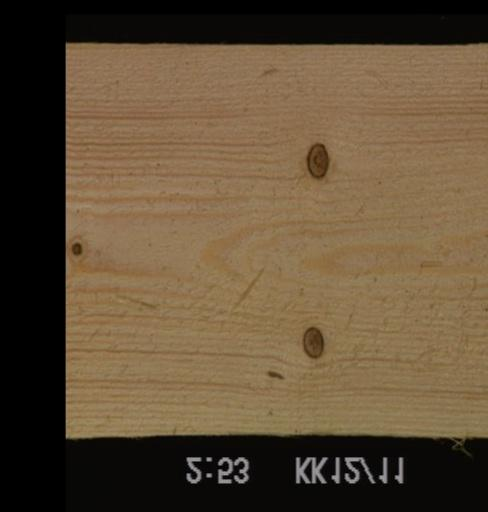dry_knot: (302, 142, 329, 180), (299, 324, 322, 360), (67, 233, 85, 263)
